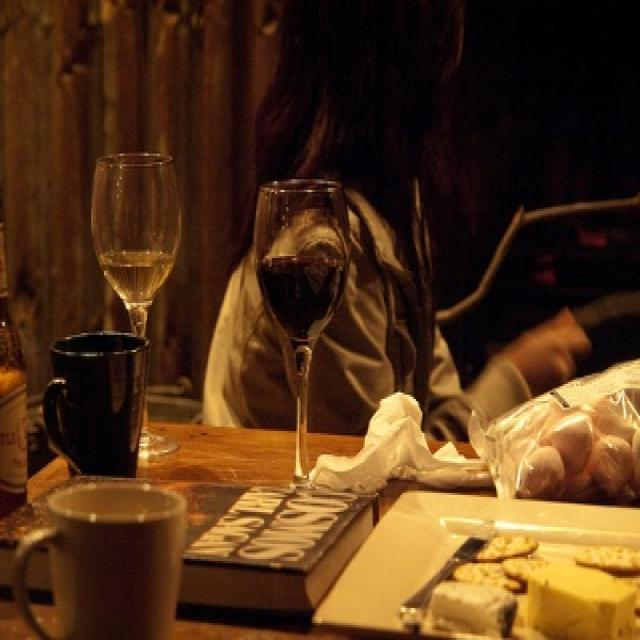Bottle: (0, 255, 27, 533)
Cup: (86, 144, 183, 455), (36, 467, 183, 640), (262, 172, 341, 491), (44, 327, 164, 507)
People: (243, 4, 581, 447)
Table: (0, 387, 631, 640)
